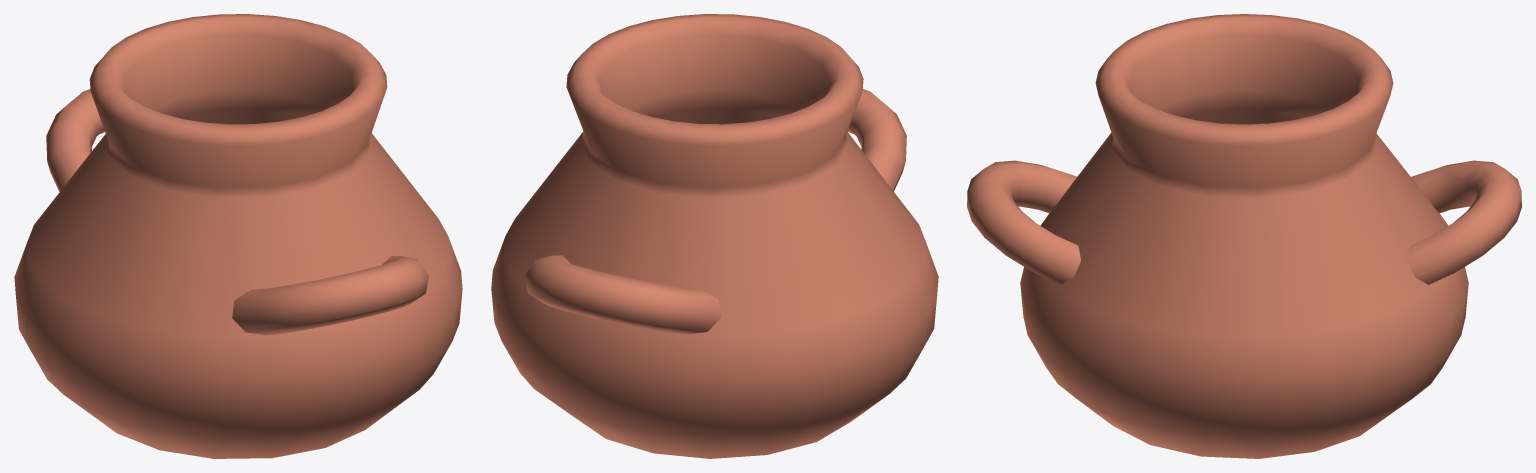
The model's file is ClayPot_02 1.fbx.
3 renders of one model, left to right at view 1: azimuth 30°, elevation 25°; view 2: azimuth 150°, elevation 25°; view 3: azimuth 270°, elevation 25°, orthographic.
Visible parts, largest first — view 1: ClayPot_02; view 2: ClayPot_02; view 3: ClayPot_02.
Part boxes in pixels (left/top/right/bottom): ClayPot_02: left=14, top=14, right=462, bottom=458; ClayPot_02: left=491, top=14, right=938, bottom=458; ClayPot_02: left=967, top=14, right=1521, bottom=458.
Bounding box in the file's own units: 35.47 × 28.35 × 43.9.
